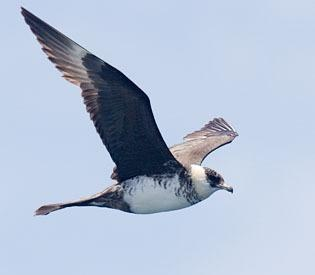bird: (18, 6, 238, 214)
